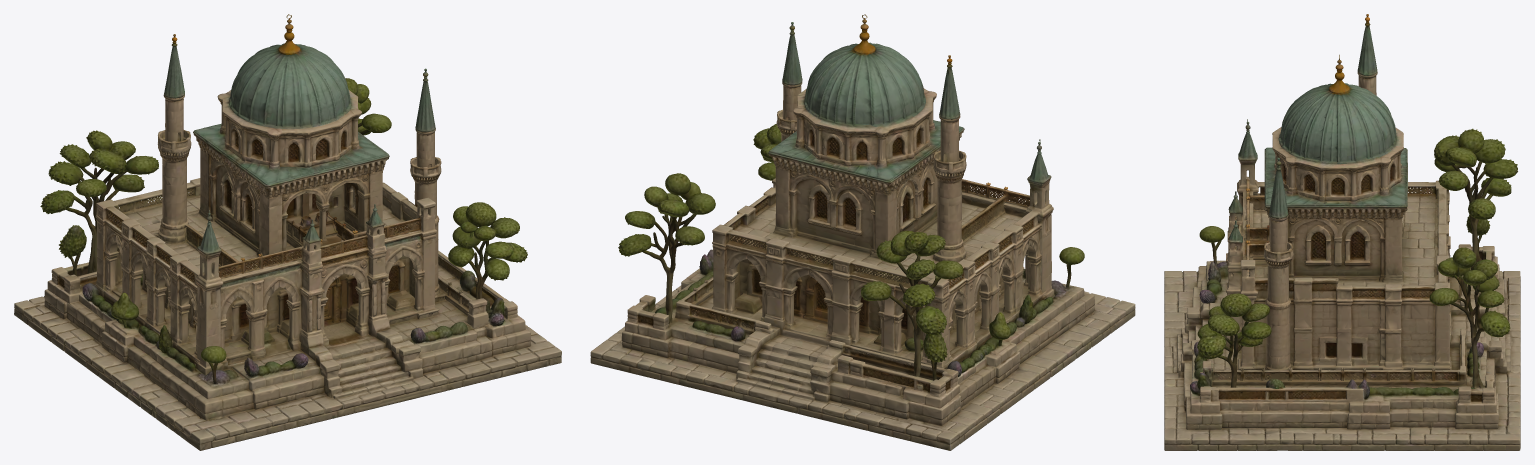
File: ottoman.glb
The picture shows the model from 3 angles, left to right: view 1: azimuth 30°, elevation 25°; view 2: azimuth 150°, elevation 25°; view 3: azimuth 270°, elevation 25°; orthographic projection. The views are drawn at different scales.
Visible parts, largest first — view 1: tripo_node_b546e079-f7bc-4542-9a0d-a703647538c0; view 2: tripo_node_b546e079-f7bc-4542-9a0d-a703647538c0; view 3: tripo_node_b546e079-f7bc-4542-9a0d-a703647538c0.
Boxes of the visible parts, x1,y1,x2,y2 form: tripo_node_b546e079-f7bc-4542-9a0d-a703647538c0: [14, 14, 561, 450]; tripo_node_b546e079-f7bc-4542-9a0d-a703647538c0: [590, 14, 1135, 450]; tripo_node_b546e079-f7bc-4542-9a0d-a703647538c0: [1164, 14, 1520, 450].
Bounding box in the file's own units: 0.981 × 0.844 × 0.8738.
1 material, 1 textured.
